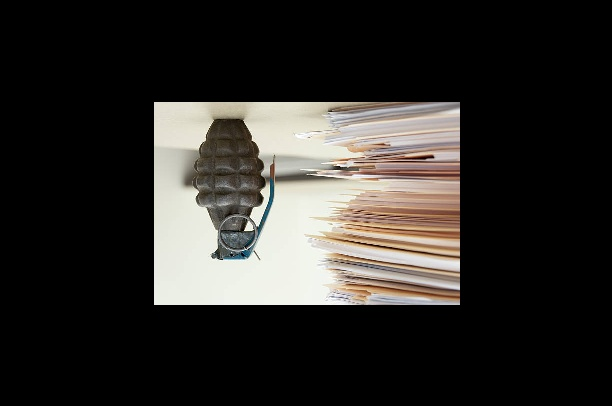e1: (190, 115, 279, 264)
